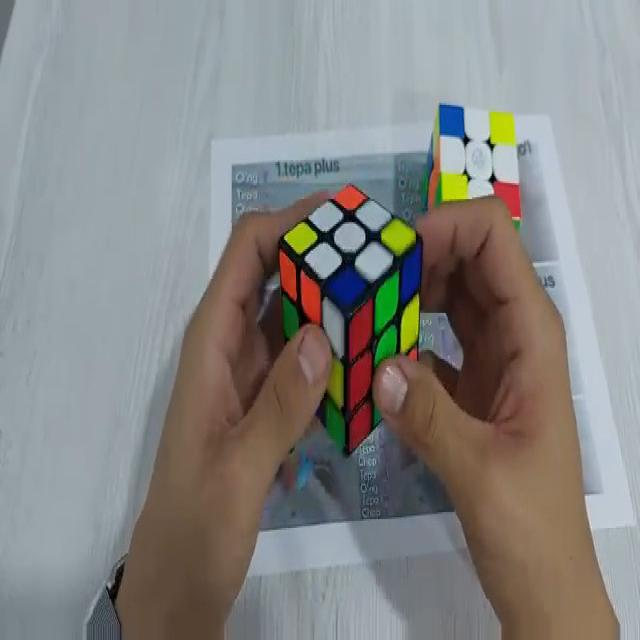Rub: (281, 182, 423, 456), (424, 102, 524, 241)
